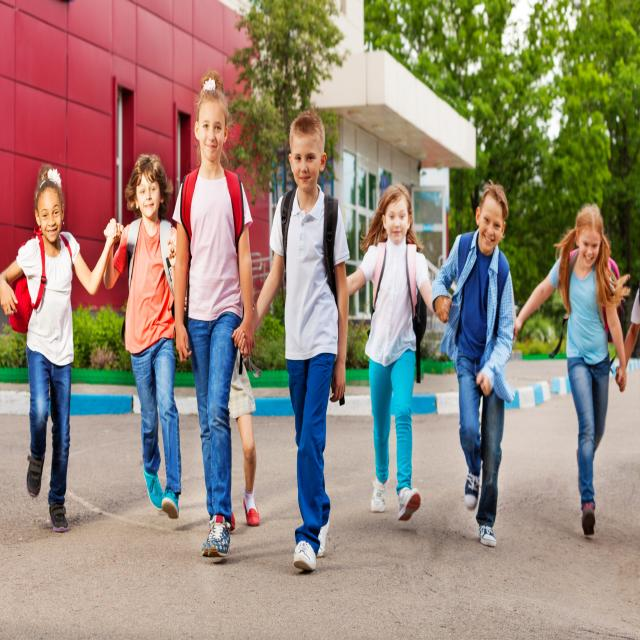Person: (235, 109, 349, 574), (0, 167, 118, 534), (178, 71, 255, 558), (515, 204, 626, 538), (434, 184, 514, 546), (105, 154, 181, 519), (350, 185, 430, 520)
